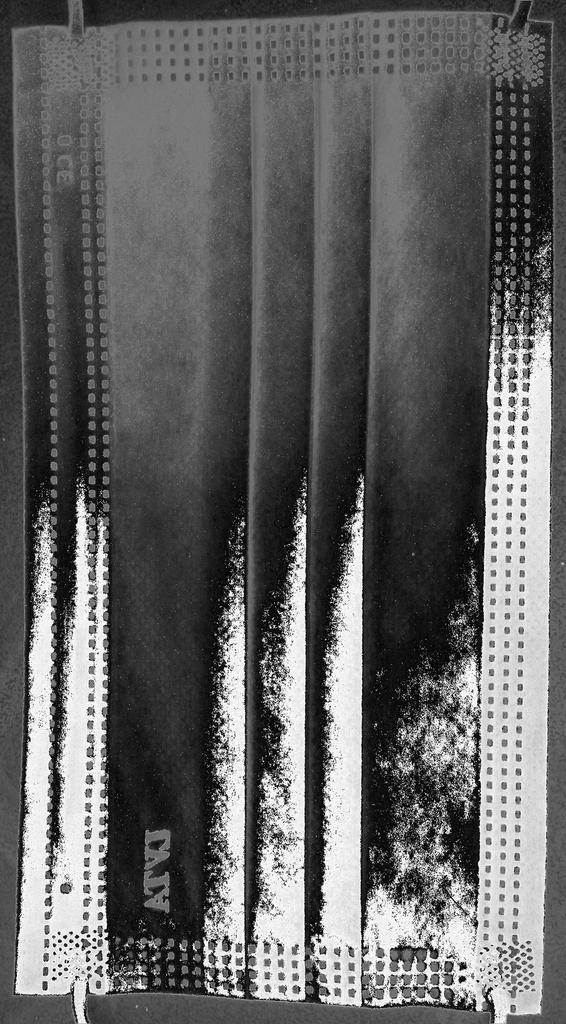High GSM: (11, 458, 553, 1021)
